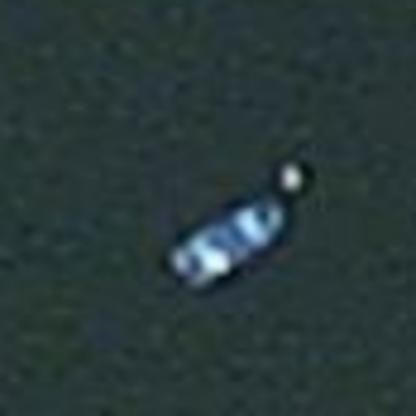ship: (151, 147, 322, 300)
